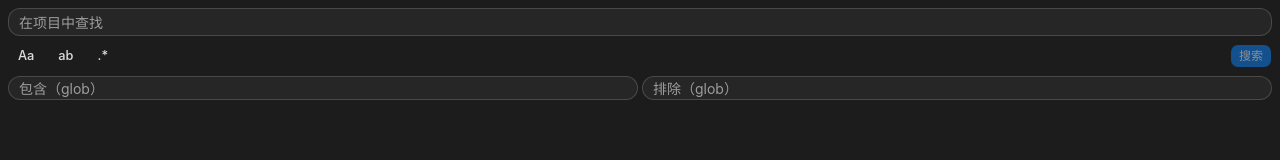
ProjectSearchPanel › reports a failure rather than an empty result
This screenshot has width=1280, height=160.
Type "(unclosed" into the field labelled "在项目中查找" at (640, 22), box [8,8,1272,36]
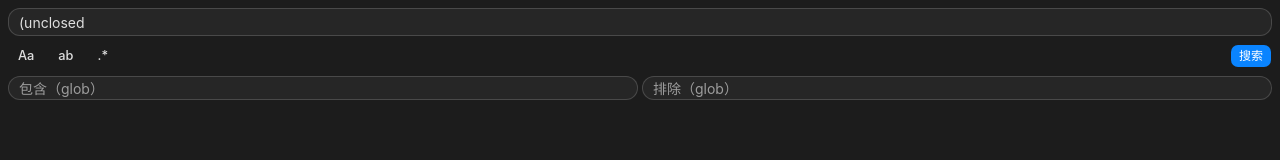
Click the button "搜索" at (1251, 56), box [1230,44,1272,68]
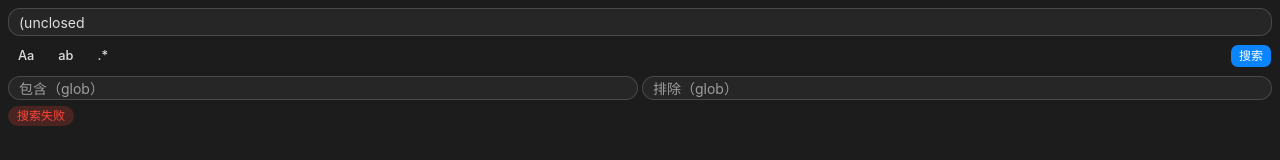
Now the text "搜索失败" is shown, box [8,106,74,126]
